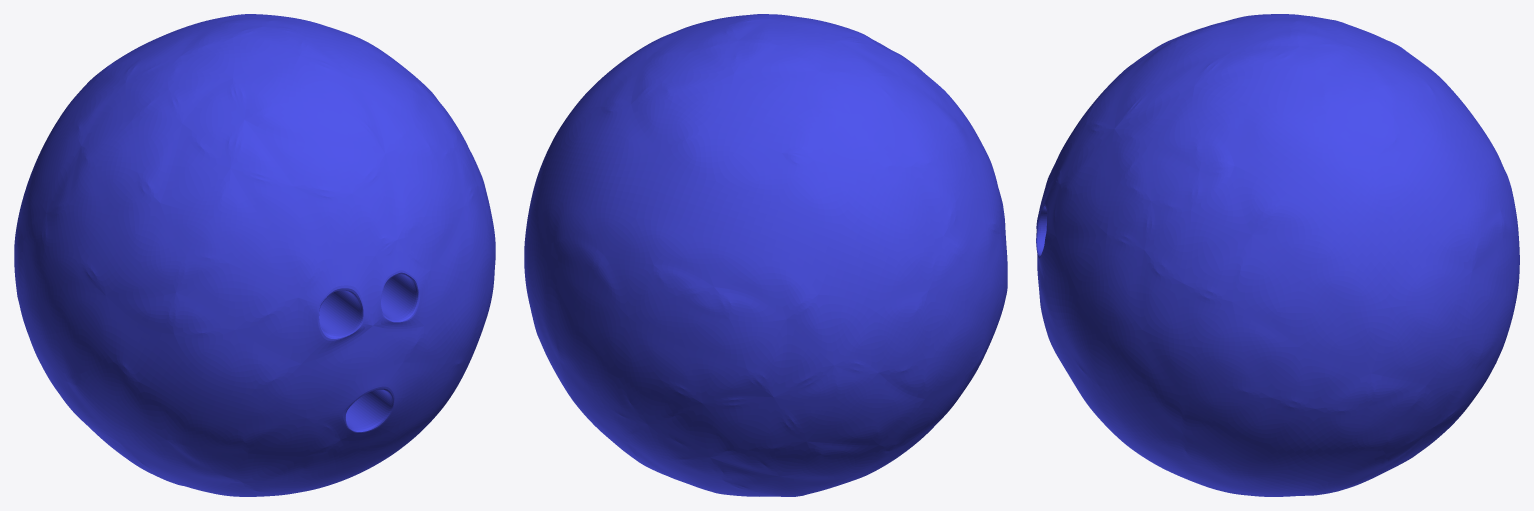
Rendered from FBowlingBall.fbx.
The picture shows the model from 3 angles, left to right: view 1: azimuth 30°, elevation 25°; view 2: azimuth 150°, elevation 25°; view 3: azimuth 270°, elevation 25°; orthographic projection.
Parts seen in each view (by area): view 1: Sphere; view 2: Sphere; view 3: Sphere.
Part boxes in pixels (bbox=[...]): Sphere: bbox=[14, 14, 495, 496]; Sphere: bbox=[524, 14, 1007, 496]; Sphere: bbox=[1036, 14, 1519, 496].
Bounding box in the file's own units: 0.988 × 0.9884 × 0.9874.
